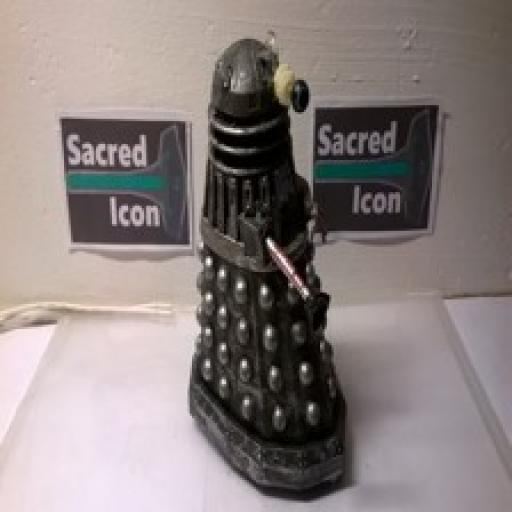dalek: (183, 31, 351, 498)
